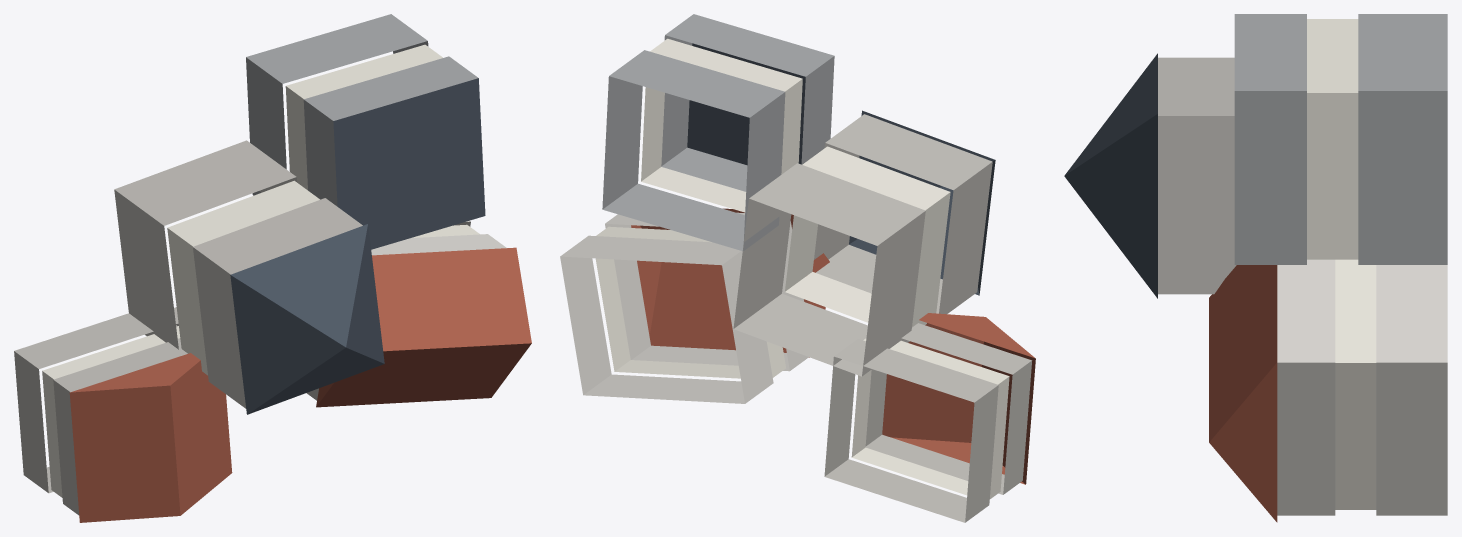
Rendered from city_cluster.obj.
The picture shows the model from 3 angles, left to right: view 1: azimuth 30°, elevation 25°; view 2: azimuth 150°, elevation 25°; view 3: azimuth 270°, elevation 25°; orthographic projection. The views are drawn at different scales.
Visible parts, largest first — view 1: city_cluster; view 2: city_cluster; view 3: city_cluster.
Part boxes in pixels (x1,y1,x2,y2): city_cluster: [14, 14, 531, 522]; city_cluster: [560, 14, 1035, 522]; city_cluster: [1064, 14, 1447, 522].
Size of the model in its own units: 0.7193 by 0.5906 by 0.45.
